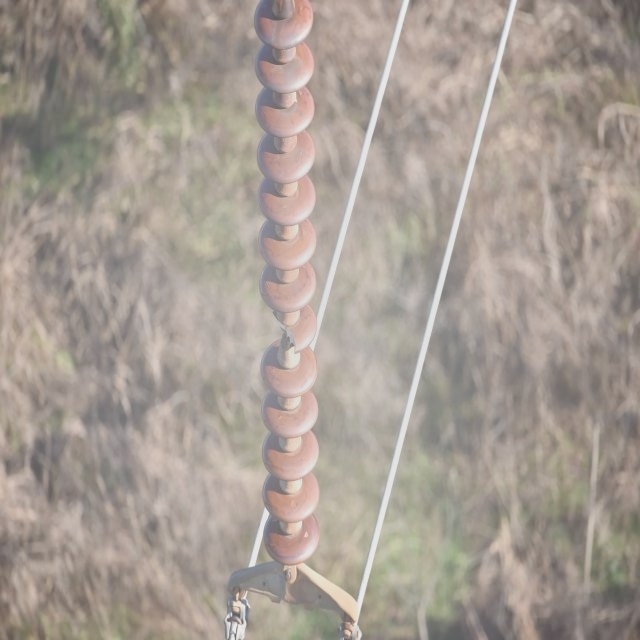broken: (270, 307, 300, 358)
insulator: (250, 1, 320, 564)
